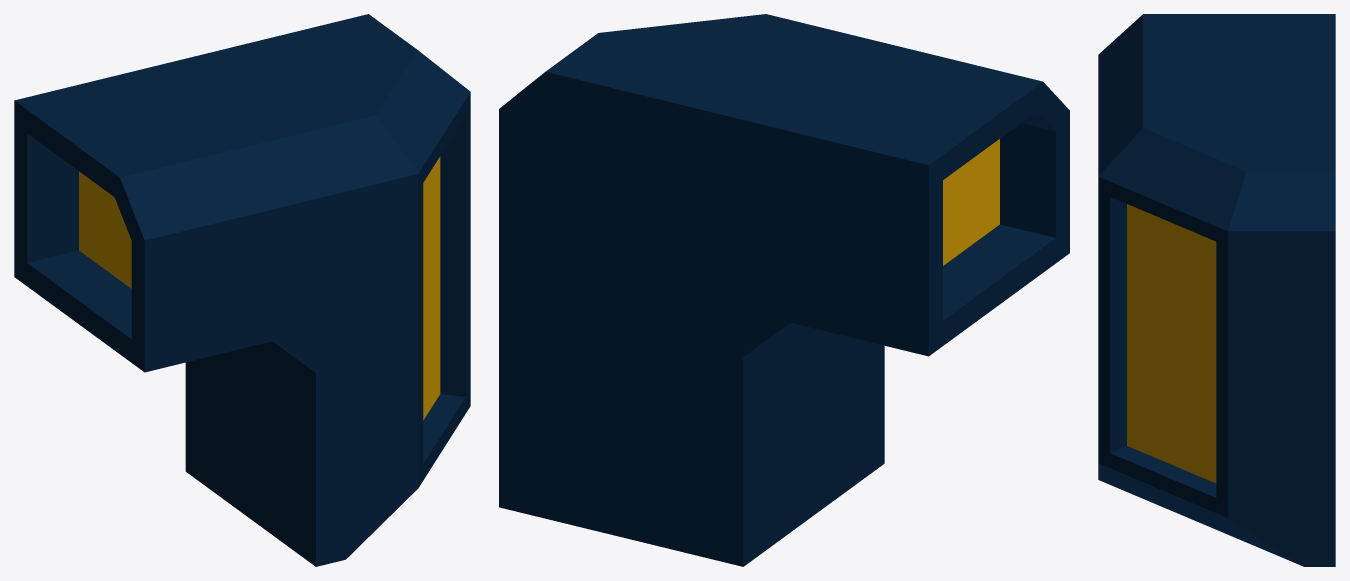
The model's file is physics_a.fbx.
The picture shows the model from 3 angles, left to right: view 1: azimuth 30°, elevation 25°; view 2: azimuth 150°, elevation 25°; view 3: azimuth 270°, elevation 25°; orthographic projection. The views are drawn at different scales.
Parts seen in each view (by area): view 1: physics_cube_a; view 2: physics_cube_a; view 3: physics_cube_a.
Boxes of the visible parts, x1=… form: physics_cube_a: x1=14, y1=14, x2=470, y2=566; physics_cube_a: x1=499, y1=14, x2=1069, y2=566; physics_cube_a: x1=1098, y1=14, x2=1335, y2=566.
Bounding box in the file's own units: 34.65 × 34.43 × 19.7.
